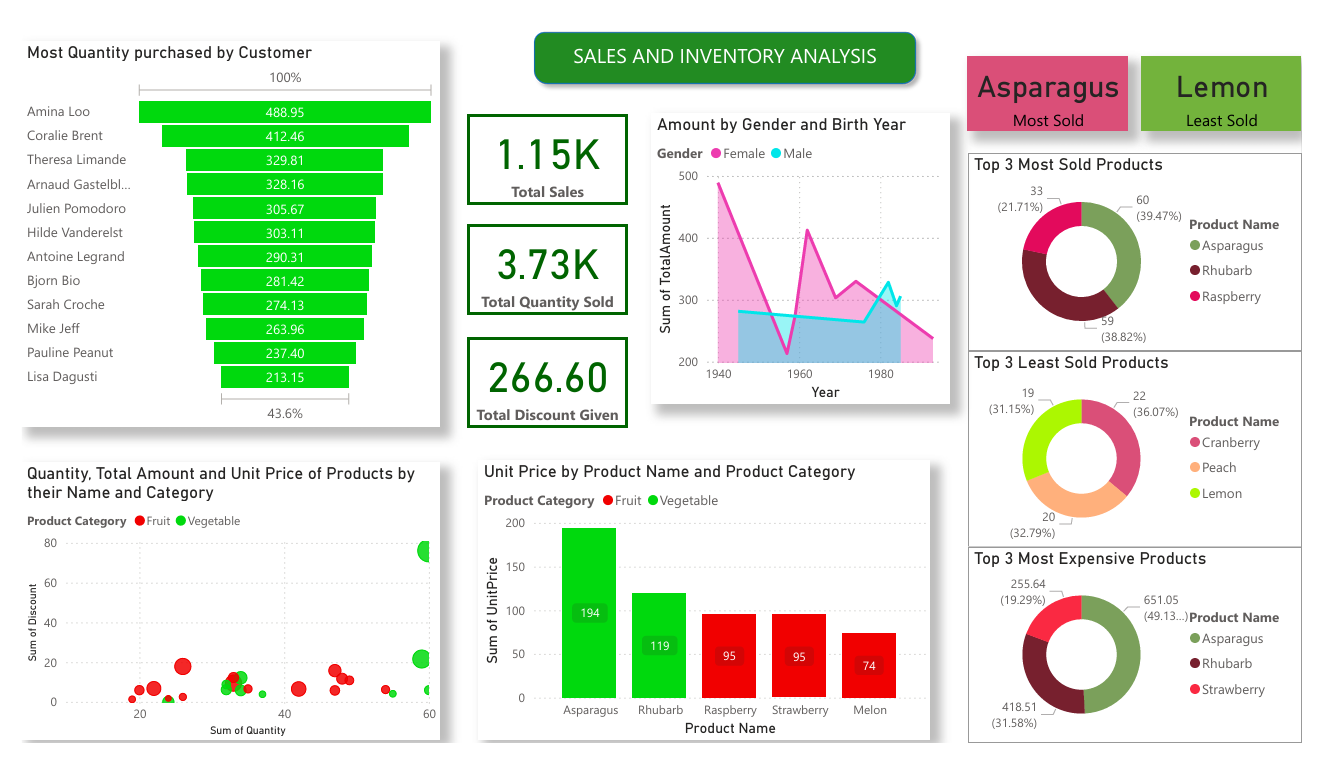

The dashboard page shown, as its layout file describes it:
{"tool":"powerbi","page":{"name":"Page 1","canvas":[1280,720],"ordinal":0},"visuals":[{"type":"funnel","title":"Most Quantity purchased by Customer ","fields":{"Category":["Sales and Inventor y Data.Full Name"],"Y":["Sales and Inventor y Data.TotalAmount"]},"box":[0,19.5,419.2,385.2],"z":0},{"type":"scatterChart","title":"Quantity, Total Amount and Unit Price of Products by their Name and Category","fields":{"Category":["Sales and Inventor y Data.Product Name"],"X":["Sales and Inventor y Data.Quantity"],"Y":["Sales and Inventor y Data.Discount"],"Size":["Sales and Inventor y Data.UnitPrice"],"Series":["Sales and Inventor y Data.Product Category"]},"box":[0,439.6,419.2,278.2],"z":1000},{"type":"columnChart","title":"Unit Price by Product Name and Product Category","fields":{"Category":["Sales and Inventor y Data.Product Name"],"Y":["Sales and Inventor y Data.UnitPrice"],"Series":["Sales and Inventor y Data.Product Category"]},"box":[457.1,437.7,452.3,280.1],"z":2000},{"type":"areaChart","title":"Amount by Gender and Birth Year","fields":{"Category":["Sales and Inventor y Data.Birthday.Variation.Date Hierarchy.Year","Sales and Inventor y Data.Birthday.Variation.Date Hierarchy.Quarter","Sales and Inventor y Data.Birthday.Variation.Date Hierarchy.Month","Sales and Inventor y Data.Birthday.Variation.Date Hierarchy.Day"],"Y":["Sales and Inventor y Data.TotalAmount"],"Series":["Sales and Inventor y Data.Gender"]},"box":[630.3,91.4,298.6,290.8],"z":3000},{"type":"donutChart","title":"Top 3 Most Sold Products","fields":{"Category":["Sales and Inventor y Data.Product Name"],"Y":["Sales and Inventor y Data.Quantity"]},"box":[946.4,130.3,333.6,197.4],"z":4000},{"type":"donutChart","title":"Top 3 Least Sold Products","fields":{"Category":["Sales and Inventor y Data.Product Name"],"Y":["Sales and Inventor y Data.Quantity"]},"box":[946.4,327.8,333.6,196.5],"z":5000},{"type":"donutChart","title":"Top 3 Most Expensive Products","fields":{"Category":["Sales and Inventor y Data.Product Name"],"Y":["Sales and Inventor y Data.TotalAmount"]},"box":[946.4,524.3,333.6,195.5],"z":6000},{"type":"card","fields":{"Values":["Sales and Inventor y Data.UnitPrice"]},"box":[445.5,91.4,160.5,90.5],"z":7000},{"type":"card","fields":{"Values":["Sales and Inventor y Data.TotalAmount"]},"box":[445.5,201.3,160.5,90.5],"z":8000},{"type":"card","fields":{"Values":["Sales and Inventor y Data.Discount"]},"box":[445.5,314.2,160.5,90.5],"z":9000},{"type":"card","fields":{"Values":["Sales and Inventor y Data.Product Name"]},"box":[946.4,34,160.5,74.9],"z":10000},{"type":"card","fields":{"Values":["Sales and Inventor y Data.Product Name"]},"box":[1119.5,34,160.5,74.9],"z":11000},{"type":"shape","box":[502.9,0,400,70],"z":12000}]}

Visuals, with their boxes in screenshot pixels (x1, y1, x2, y2), scaled from the page's 1280x720 canvas onto the 1322x763 screenshot:
"Most Quantity purchased by Customer " funnel: bbox(0, 21, 433, 429)
"Quantity, Total Amount and Unit Price of Products by their Name and Category" scatterChart: bbox(0, 466, 433, 761)
"Unit Price by Product Name and Product Category" columnChart: bbox(472, 464, 939, 761)
"Amount by Gender and Birth Year" areaChart: bbox(651, 97, 959, 405)
"Top 3 Most Sold Products" donutChart: bbox(977, 138, 1321, 347)
"Top 3 Least Sold Products" donutChart: bbox(977, 347, 1321, 556)
"Top 3 Most Expensive Products" donutChart: bbox(977, 556, 1321, 762)
card - Sales and Inventor y Data.UnitPrice: bbox(460, 97, 626, 193)
card - Sales and Inventor y Data.TotalAmount: bbox(460, 213, 626, 309)
card - Sales and Inventor y Data.Discount: bbox(460, 333, 626, 429)
card - Sales and Inventor y Data.Product Name: bbox(977, 36, 1143, 115)
card - Sales and Inventor y Data.Product Name: bbox(1156, 36, 1321, 115)
shape: bbox(519, 0, 933, 74)
